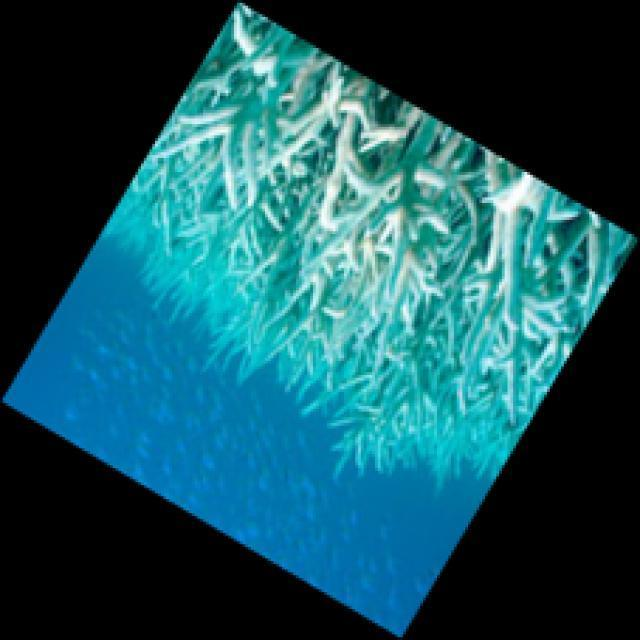Bleached: (136, 1, 640, 424)
